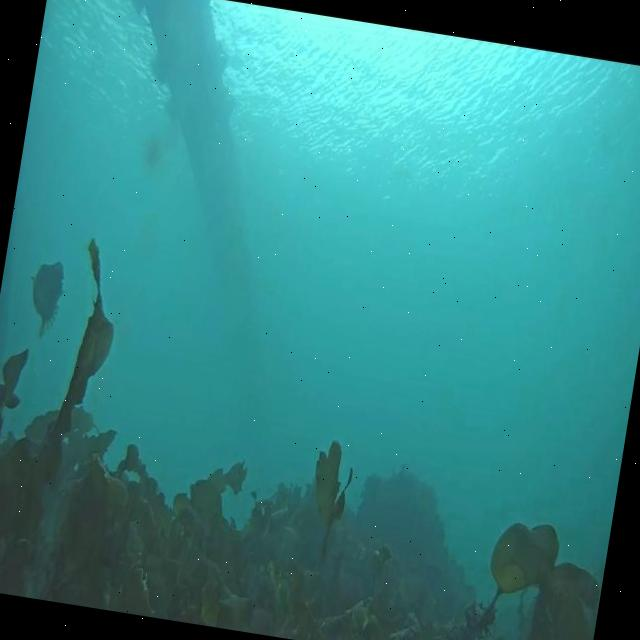fish: (21, 258, 70, 342)
